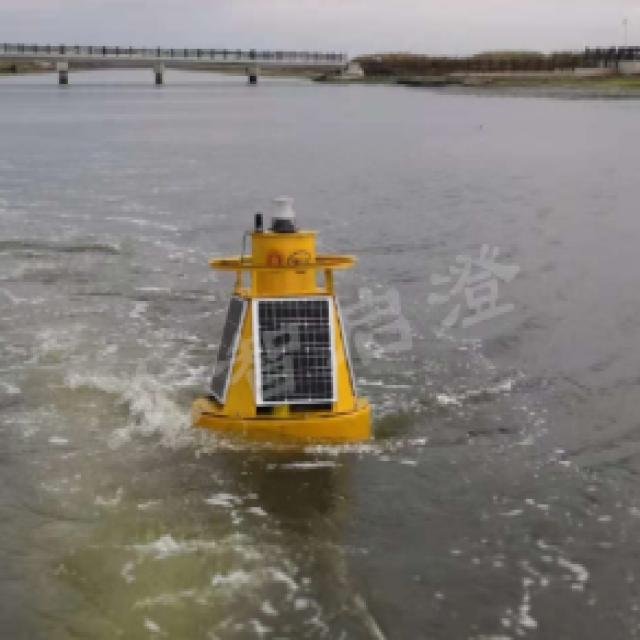buoy: (192, 188, 376, 446)
